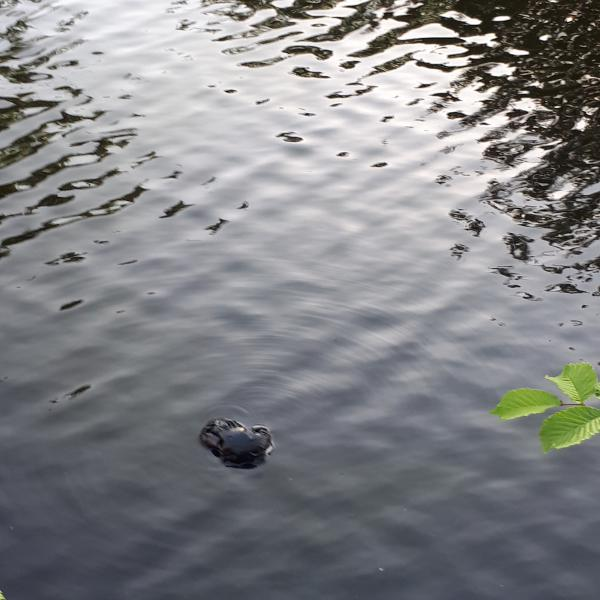others: (187, 414, 276, 471)
